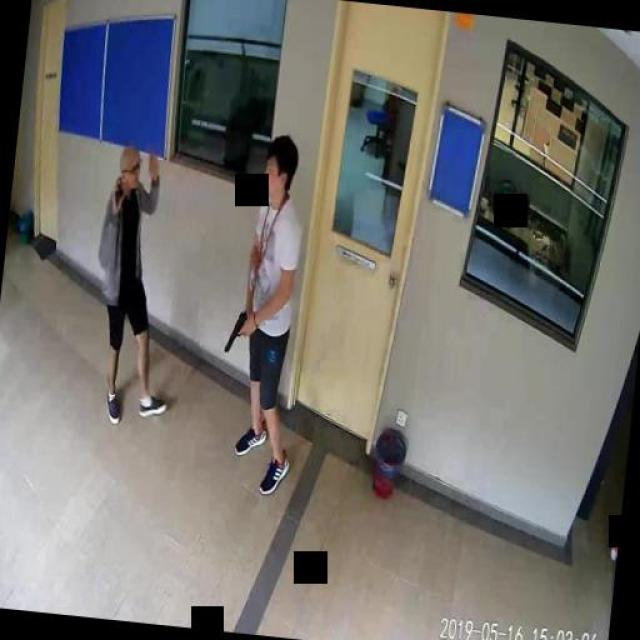gun: (224, 310, 248, 352)
